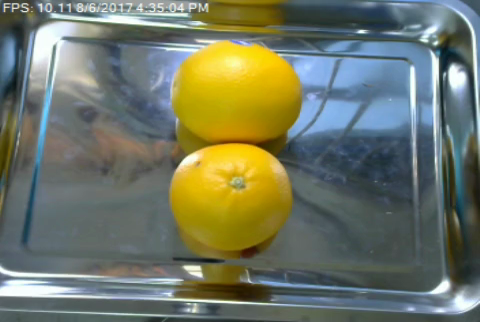Orange: (171, 39, 303, 143), (169, 142, 292, 250)
